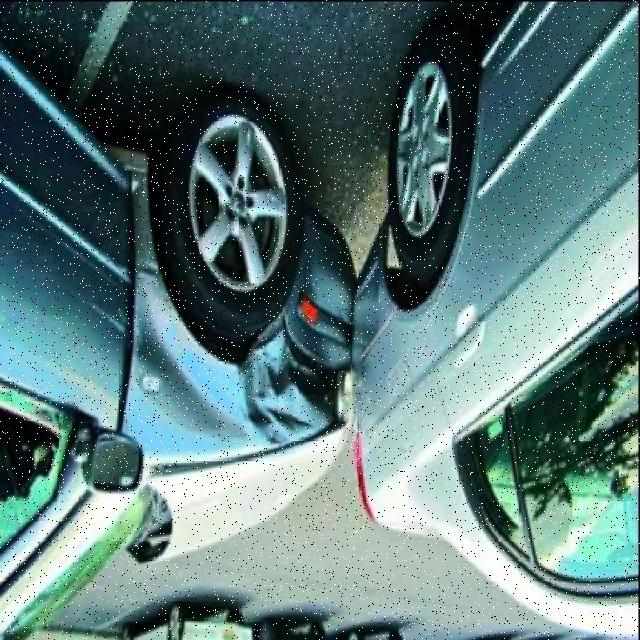damage: (226, 269, 352, 446), (137, 278, 249, 441)
